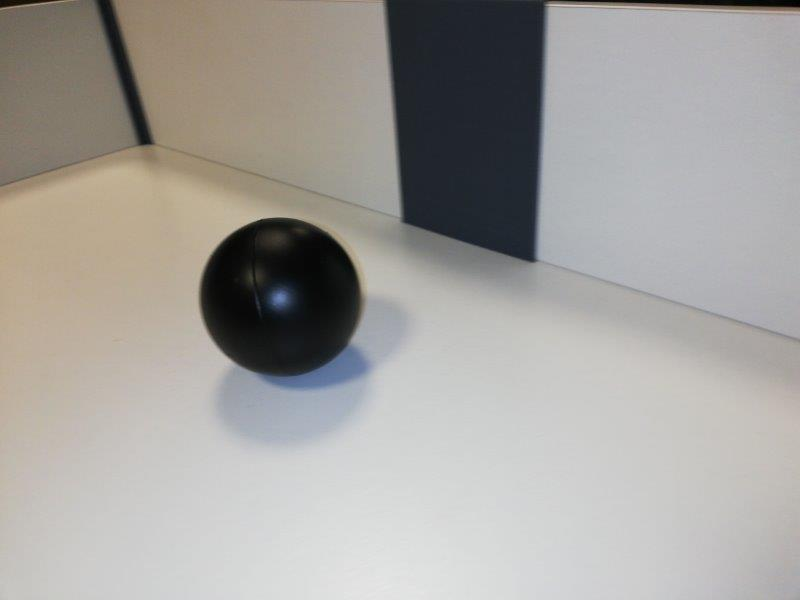nera: (199, 216, 359, 376)
